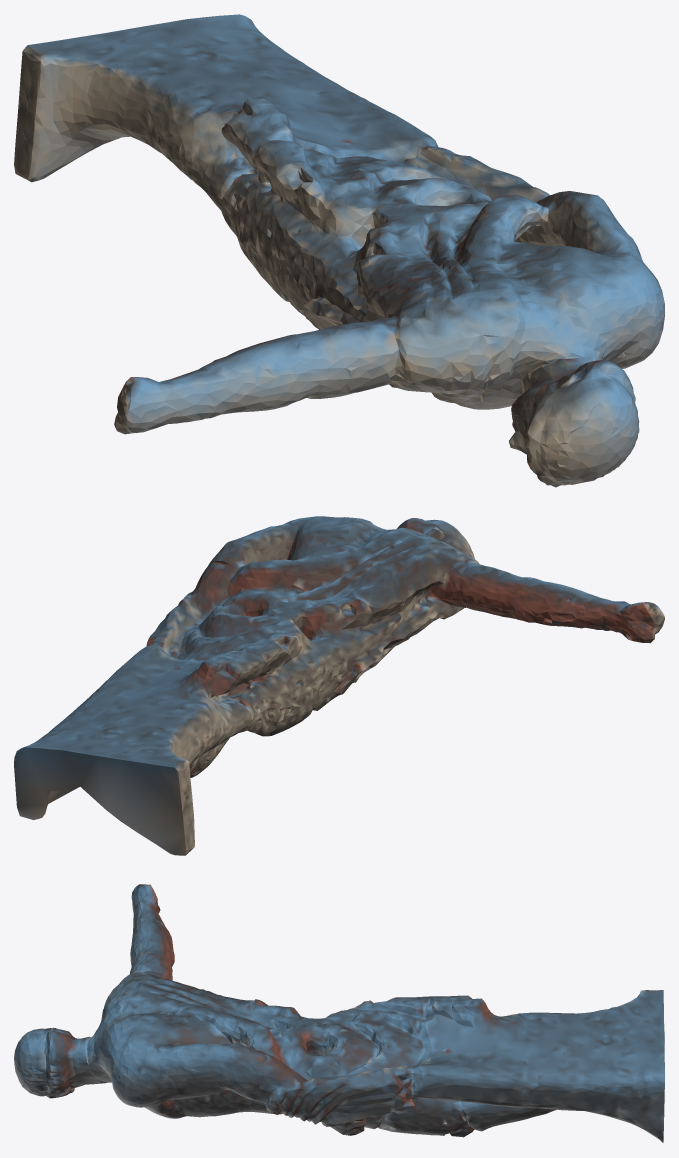
Rendered from Apollo_Ashmolean_Museum.obj.
3 views of the same model, one above another, from view 1: azimuth 30°, elevation 25°; view 2: azimuth 150°, elevation 25°; view 3: azimuth 270°, elevation 25° (orthographic). The views are drawn at different scales.
Visible parts, largest first — view 1: default; view 2: default; view 3: default.
Boxes of the visible parts, x1=… form: default: x1=14, y1=14, x2=664, y2=487; default: x1=14, y1=516, x2=664, y2=855; default: x1=14, y1=884, x2=664, y2=1142.
Bounding box in the file's own units: 9.71 × 3.02 × 14.47.
